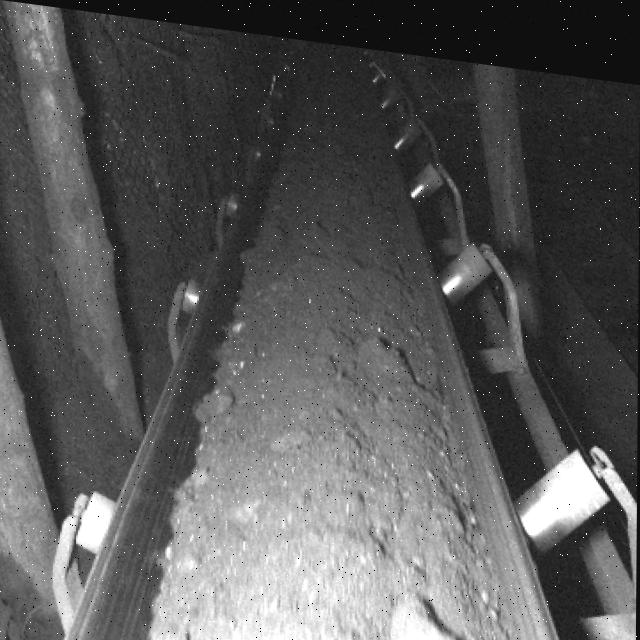large_sized_coal: (391, 582, 477, 640)
